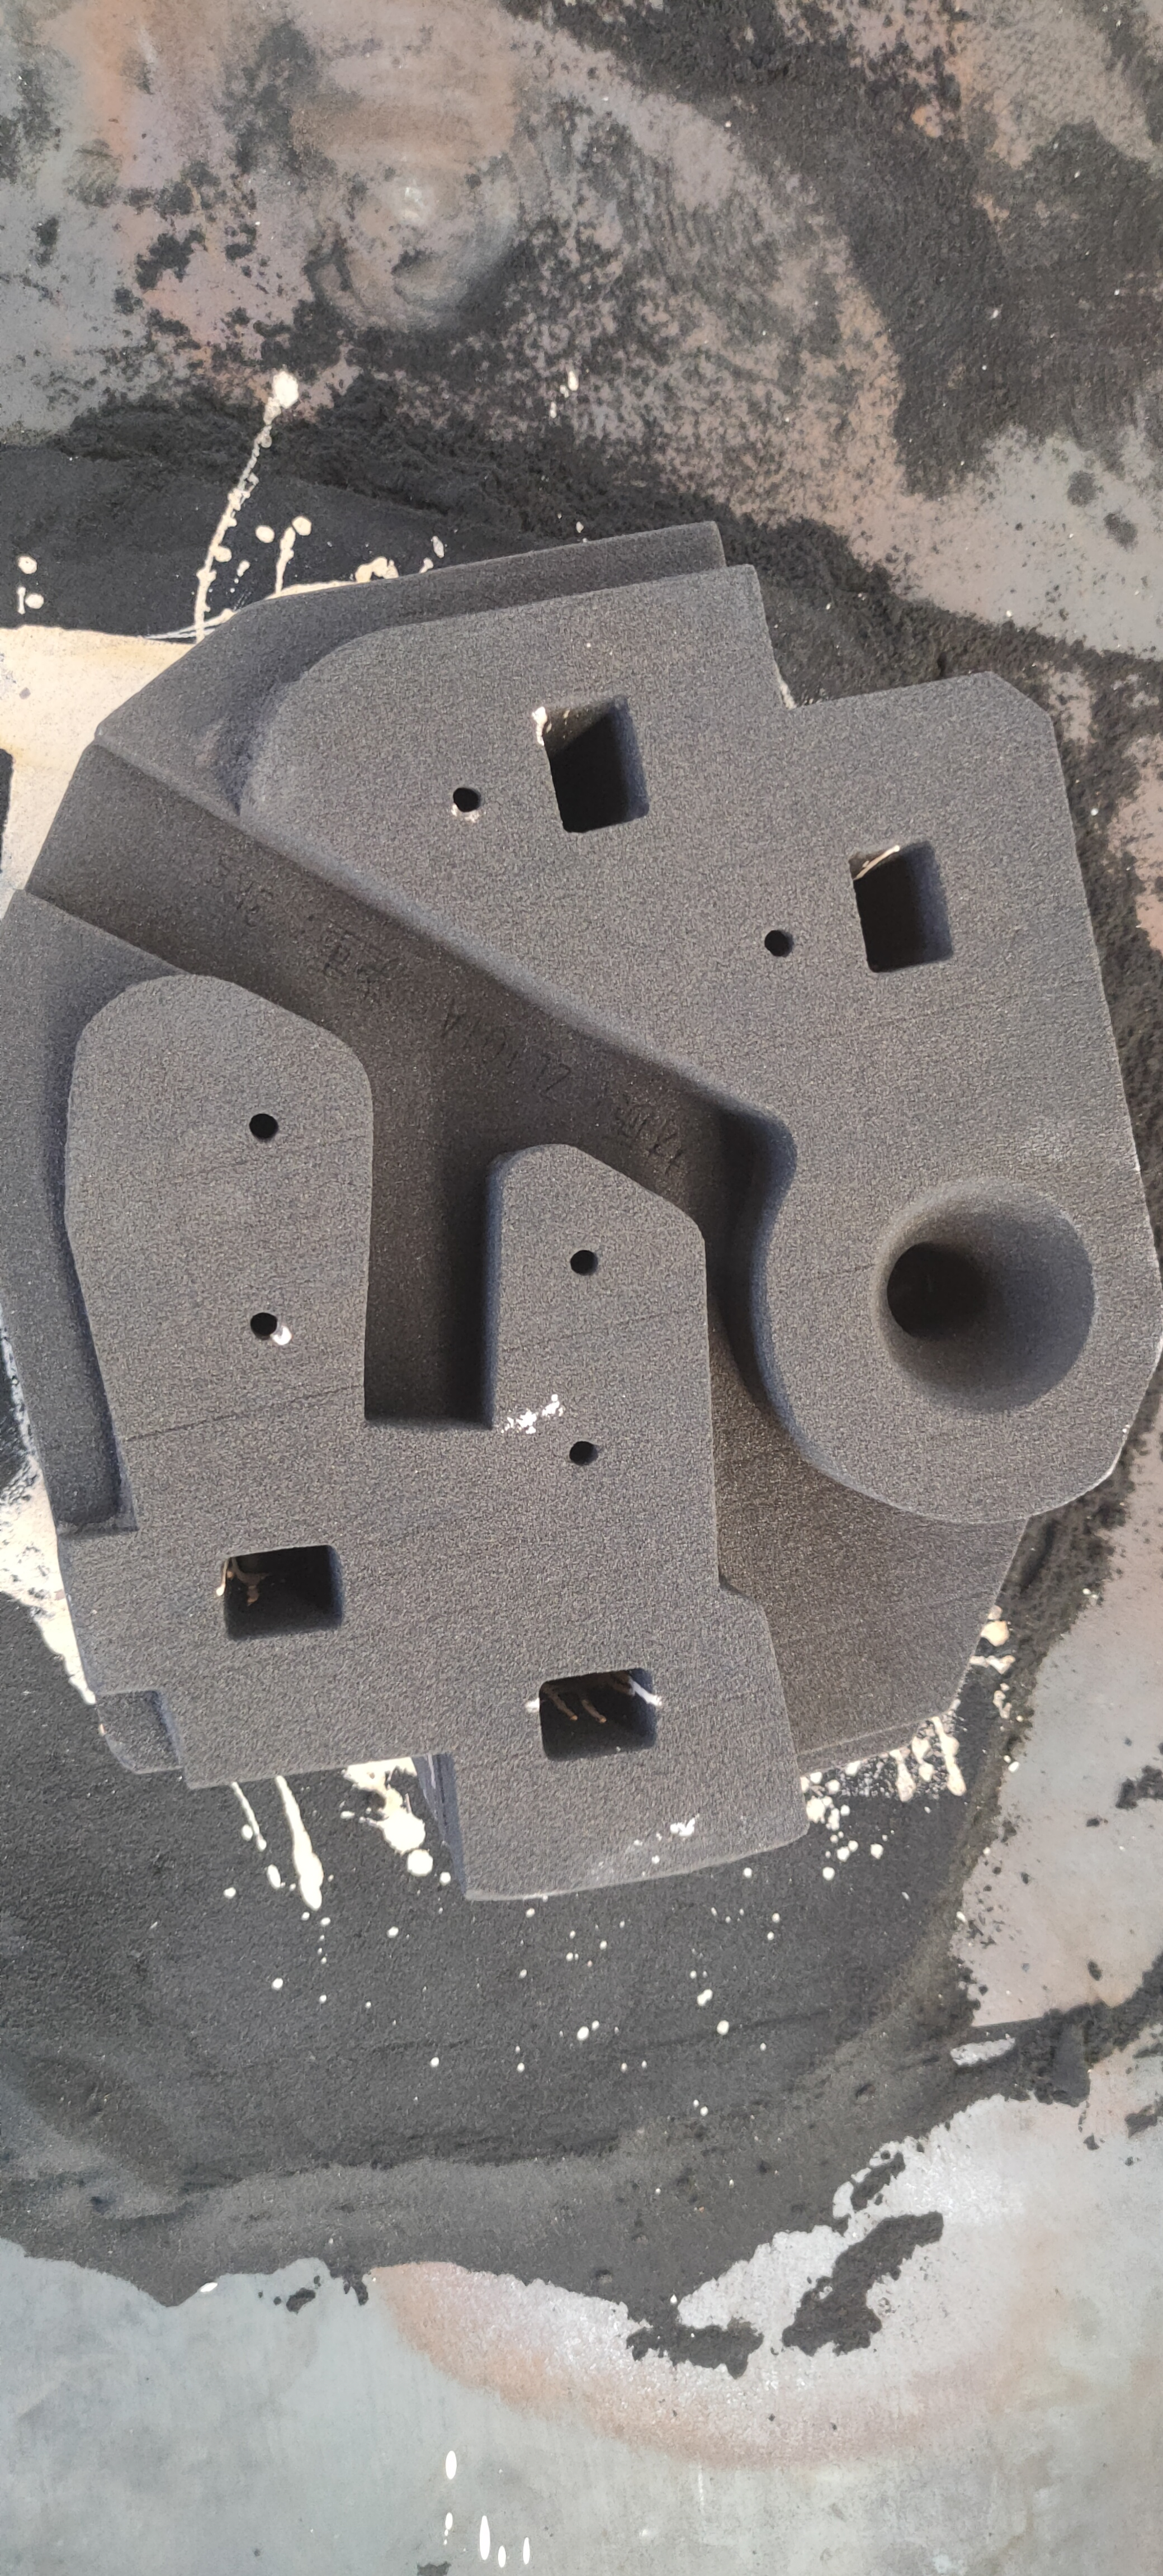pouring hole: (872, 1176, 1097, 1421)
